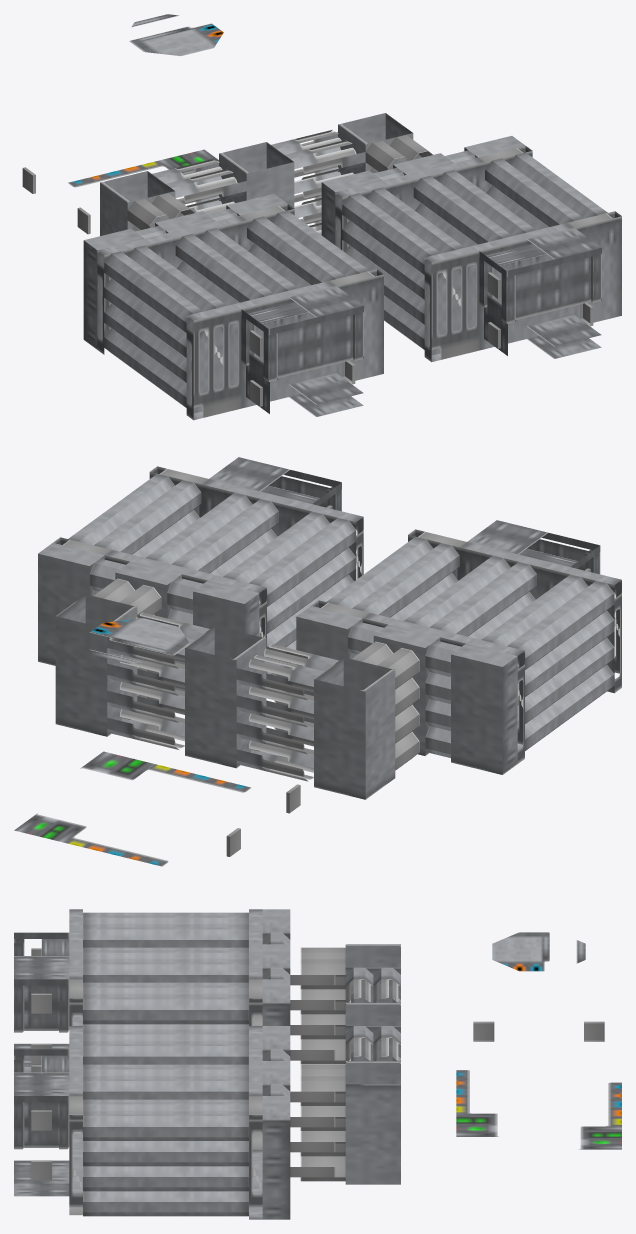
The model's file is orbitallaserdrill.obj.
3 renders of one model, top to bottom at view 1: azimuth 30°, elevation 25°; view 2: azimuth 150°, elevation 25°; view 3: azimuth 270°, elevation 25°, orthographic. The views are drawn at different scales.
Parts seen in each view (by area): view 1: Hull; view 2: Hull; view 3: Hull.
Part boxes in pixels (x1=…): Hull: x1=22, y1=14, x2=621, y2=420; Hull: x1=14, y1=457, x2=621, y2=866; Hull: x1=14, y1=909, x2=621, y2=1219.
Size of the model in its own units: 9 by 3.25 by 11.
